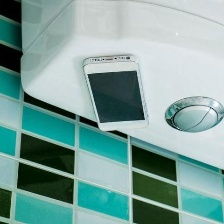phone: (78, 48, 153, 138)
